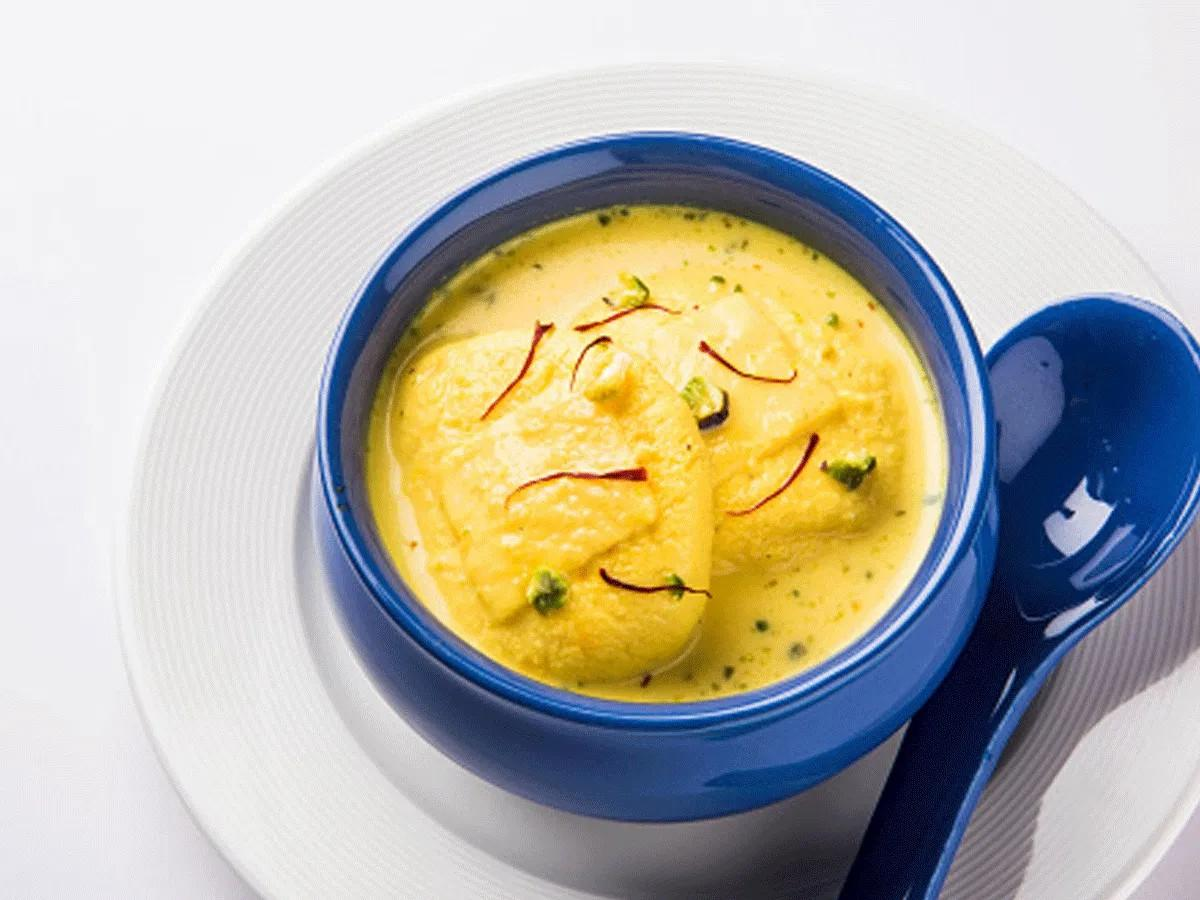RasMalai: (369, 196, 955, 703)
